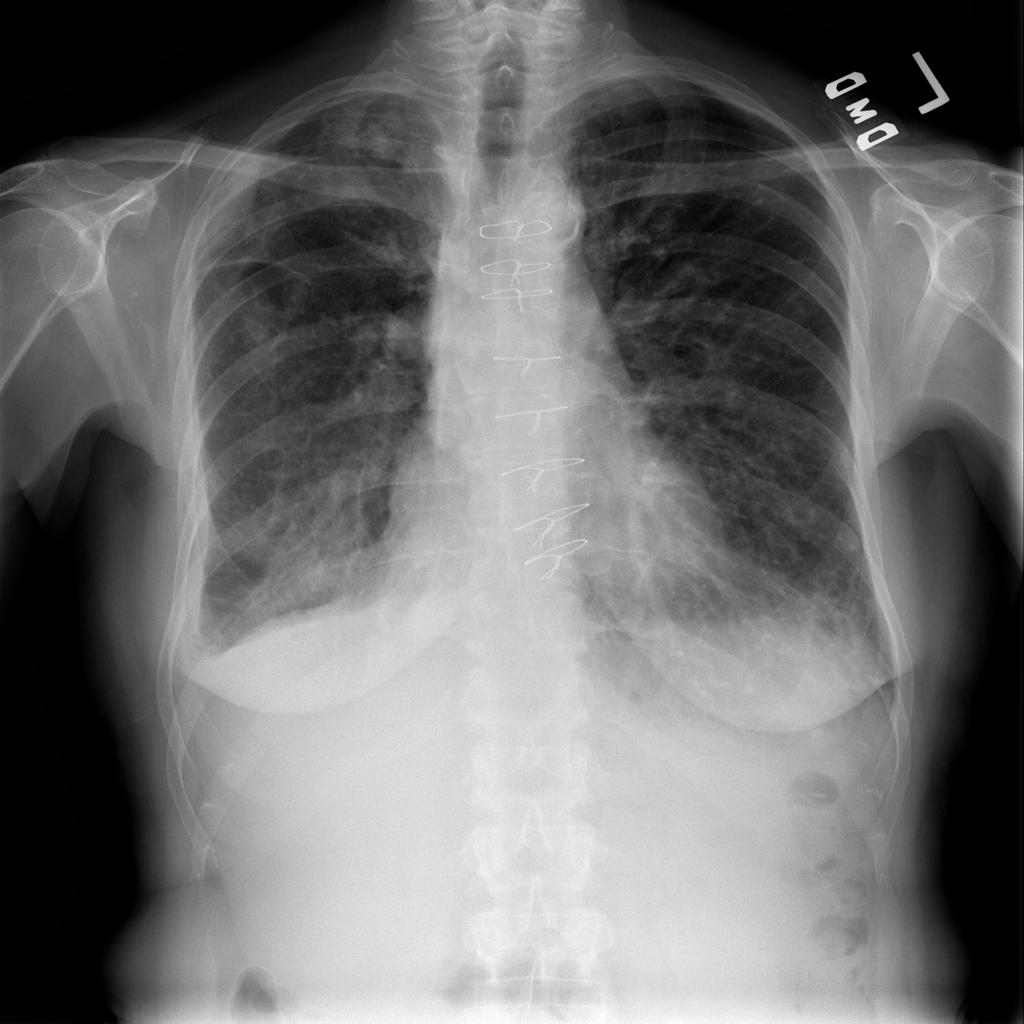nodule: (222, 282, 298, 354)
